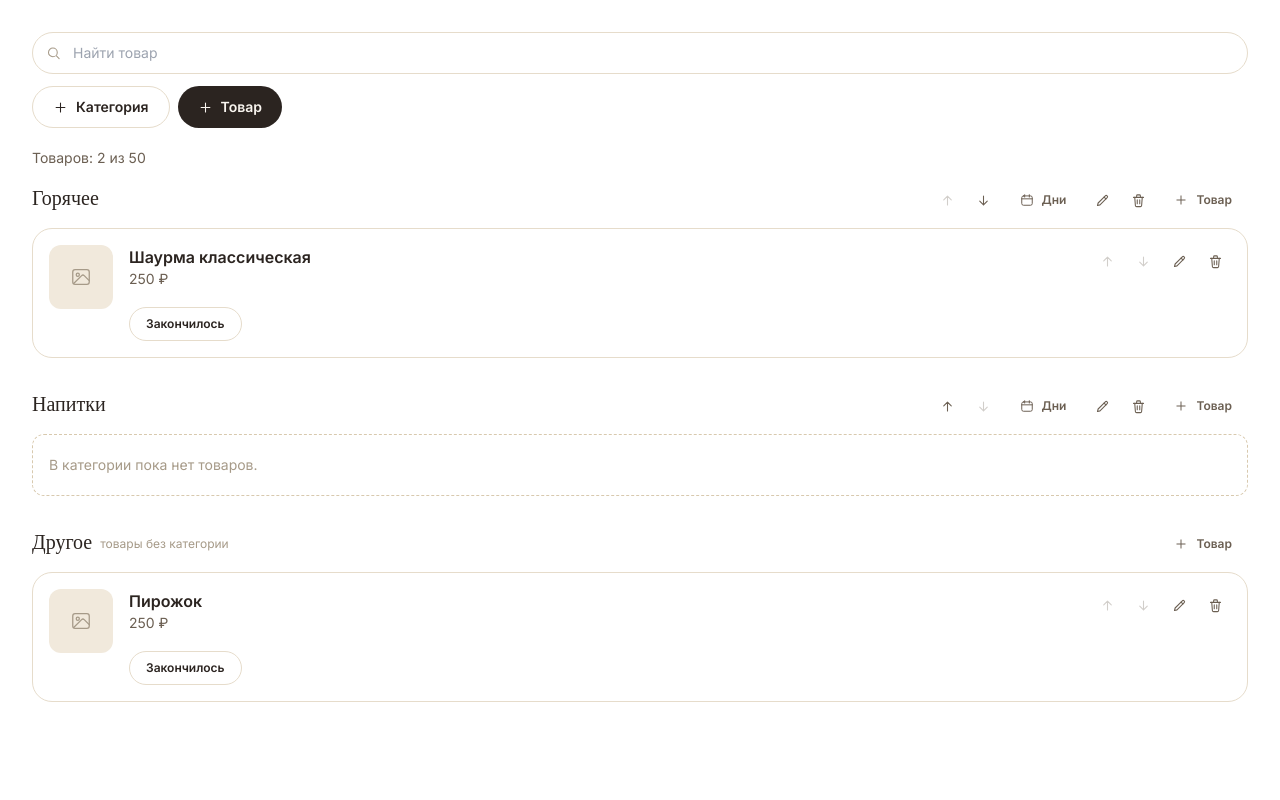
Test: CatalogPage › filters by search and hides categories without a match
This screenshot has width=1280, height=800.
expect the text "Шаурма классическая" is shown: met, box [129, 245, 311, 269]
In the search field named "Поиск товара": x=640, y=53 [32, 32, 1248, 74], type "пирожок"
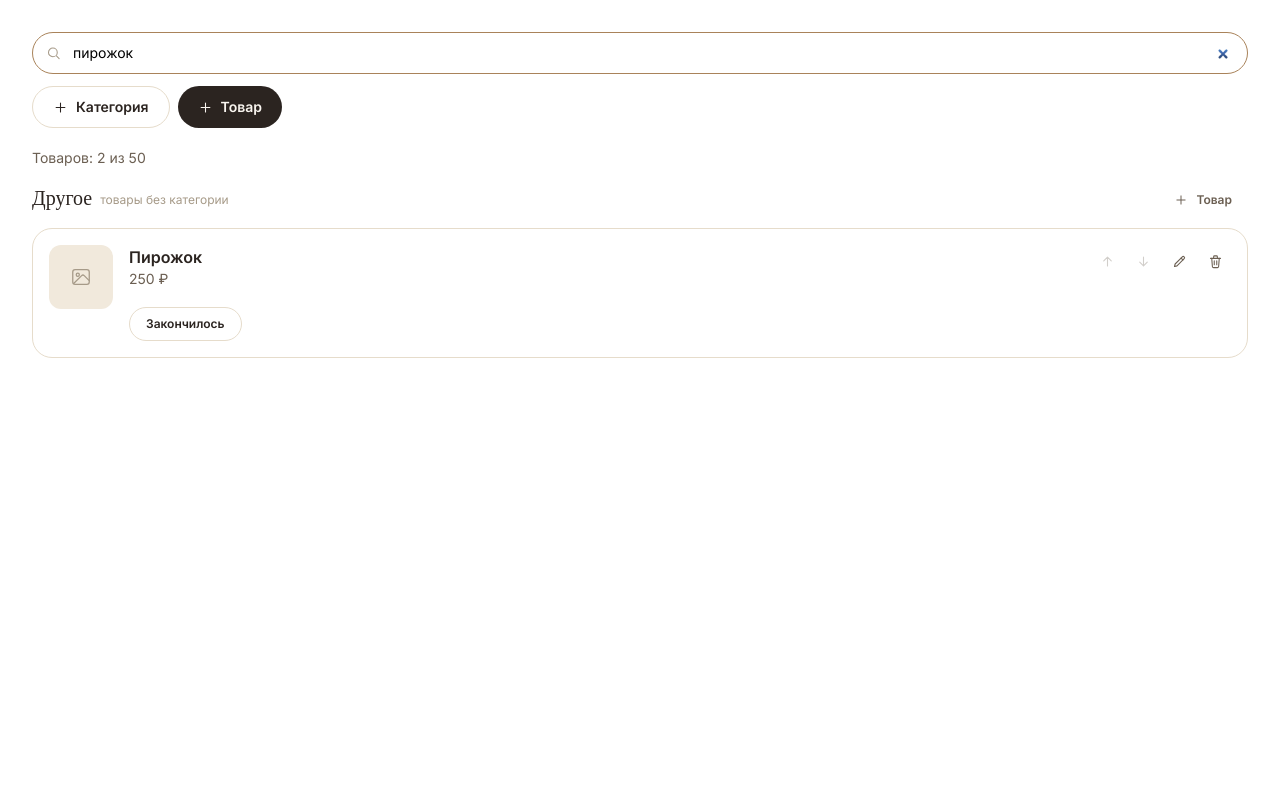
expect the text "Пирожок" is shown: met, box [129, 245, 202, 269]
expect the text "Шаурма классическая" is gone: met
expect the heading "Горячее" is gone: met
